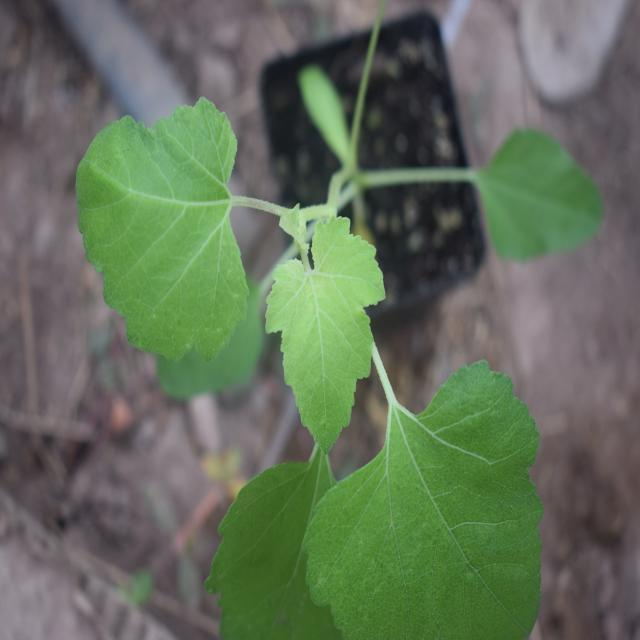cocklebur: (70, 114, 545, 623)
